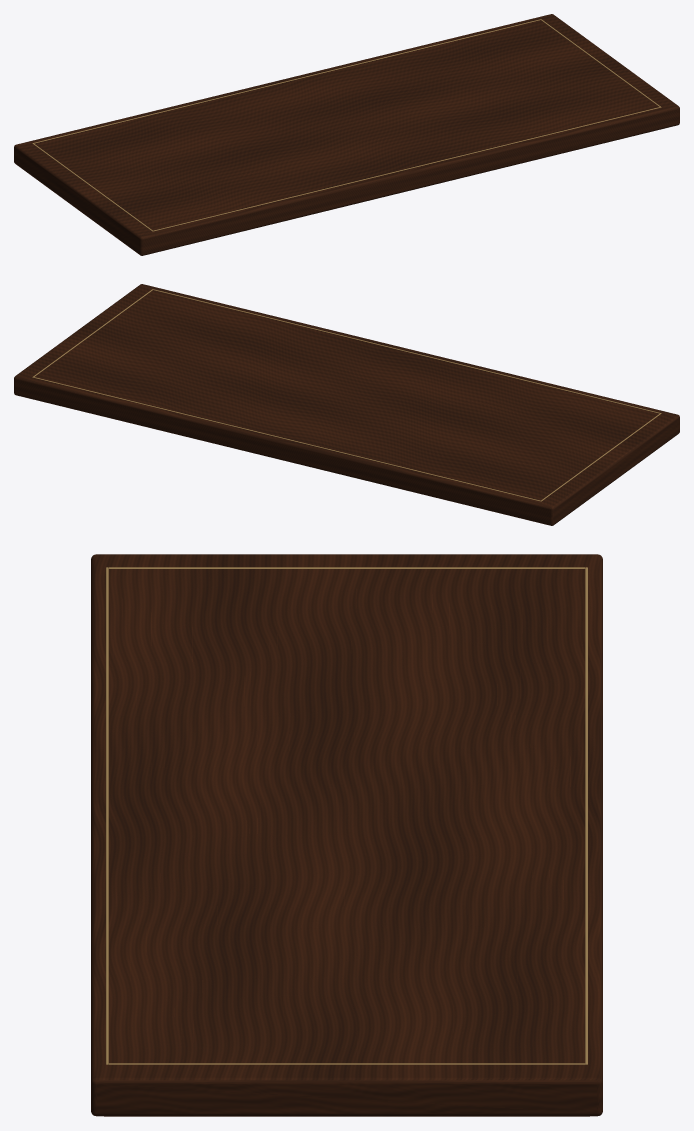
File: DetectiveDesk.fbx
The picture shows the model from 3 angles, top to bottom: view 1: azimuth 30°, elevation 25°; view 2: azimuth 150°, elevation 25°; view 3: azimuth 270°, elevation 25°; orthographic projection. The views are drawn at different scales.
Parts seen in each view (by area): view 1: DD01_Walnut_ThickTop, DD01_Brass_LongBorder_-1, DD01_Brass_LongBorder_1; view 2: DD01_Walnut_ThickTop, DD01_Brass_LongBorder_-1, DD01_Brass_LongBorder_1; view 3: DD01_Walnut_ThickTop, DD01_Brass_LongBorder_-1, DD01_Brass_LongBorder_1, DD01_Brass_EndBorder_1, DD01_Brass_EndBorder_-1.
Boxes of the visible parts, box(x1,y1,x2,y2) form: DD01_Walnut_ThickTop: box(14, 14, 679, 255); DD01_Brass_LongBorder_-1: box(152, 107, 661, 231); DD01_Brass_LongBorder_1: box(32, 19, 541, 143); DD01_Walnut_ThickTop: box(14, 284, 679, 525); DD01_Brass_LongBorder_-1: box(152, 289, 661, 413); DD01_Brass_LongBorder_1: box(32, 377, 541, 501); DD01_Walnut_ThickTop: box(91, 554, 602, 1116); DD01_Brass_LongBorder_-1: box(106, 567, 108, 1064); DD01_Brass_LongBorder_1: box(585, 567, 587, 1064); DD01_Brass_EndBorder_1: box(108, 1063, 585, 1064); DD01_Brass_EndBorder_-1: box(108, 567, 585, 568).
Bounding box in the file's own units: 280 × 10.6 × 115.
3 materials, 1 textured.
